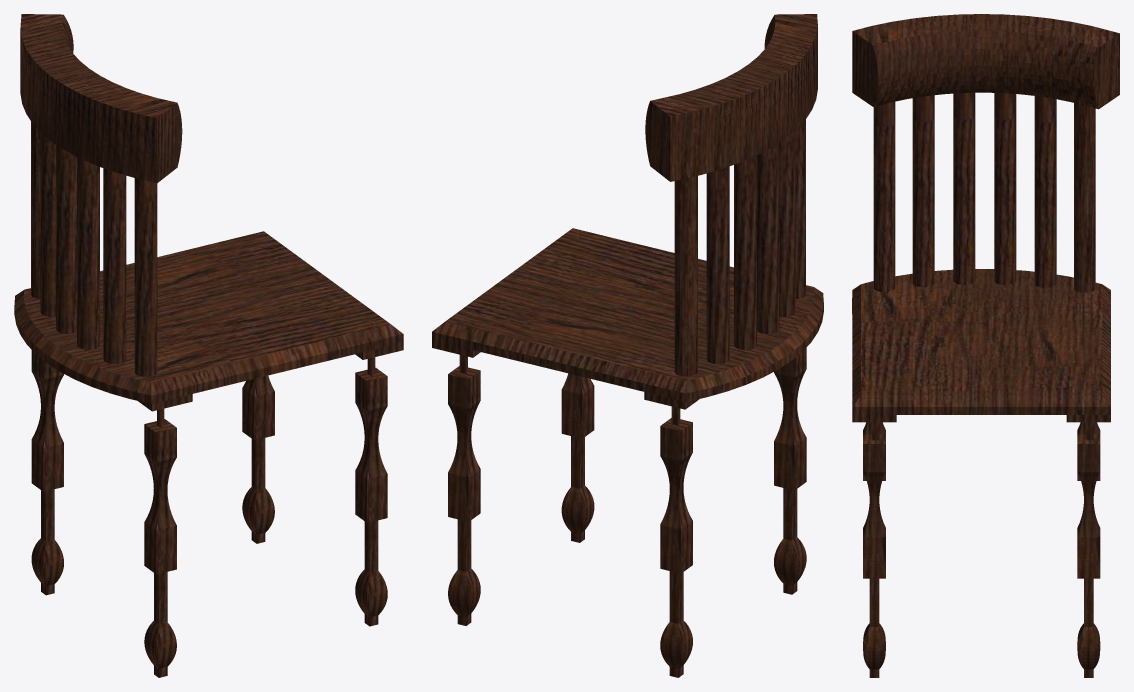
3 renders of one model, left to right at view 1: azimuth 30°, elevation 25°; view 2: azimuth 150°, elevation 25°; view 3: azimuth 270°, elevation 25°, orthographic. The views are drawn at different scales.
Visible parts, largest first — view 1: mesh1.001_mesh1-geometry, mesh15_mesh15-geometry, mesh5.001_mesh5-geometry, mesh5.004_mesh5-geometry, mesh5.003_mesh5-geometry, mesh14_mesh14-geometry, mesh13_mesh13-geometry, mesh12_mesh12-geometry, mesh5.002_mesh5-geometry, mesh11_mesh11-geometry, mesh10_mesh10-geometry; view 2: mesh1.001_mesh1-geometry, mesh15_mesh15-geometry, mesh5.003_mesh5-geometry, mesh5.002_mesh5-geometry, mesh5.004_mesh5-geometry, mesh10_mesh10-geometry, mesh11_mesh11-geometry, mesh12_mesh12-geometry, mesh5.001_mesh5-geometry, mesh13_mesh13-geometry, mesh14_mesh14-geometry; view 3: mesh1.001_mesh1-geometry, mesh15_mesh15-geometry, mesh5.002_mesh5-geometry, mesh5.001_mesh5-geometry, mesh12_mesh12-geometry, mesh11_mesh11-geometry, mesh13_mesh13-geometry, mesh10_mesh10-geometry, mesh14_mesh14-geometry.
Boxes of the visible parts, bbox=[...] form: mesh1.001_mesh1-geometry: bbox=[14, 121, 403, 403]; mesh15_mesh15-geometry: bbox=[20, 14, 182, 183]; mesh5.001_mesh5-geometry: bbox=[355, 342, 403, 626]; mesh5.004_mesh5-geometry: bbox=[138, 394, 192, 677]; mesh5.003_mesh5-geometry: bbox=[31, 350, 63, 595]; mesh14_mesh14-geometry: bbox=[134, 178, 157, 376]; mesh13_mesh13-geometry: bbox=[103, 168, 126, 364]; mesh12_mesh12-geometry: bbox=[77, 157, 99, 349]; mesh5.002_mesh5-geometry: bbox=[242, 375, 274, 543]; mesh11_mesh11-geometry: bbox=[56, 145, 76, 333]; mesh10_mesh10-geometry: bbox=[40, 132, 55, 316]; mesh1.001_mesh1-geometry: bbox=[432, 176, 823, 401]; mesh15_mesh15-geometry: bbox=[645, 14, 817, 181]; mesh5.003_mesh5-geometry: bbox=[644, 392, 699, 677]; mesh5.002_mesh5-geometry: bbox=[432, 340, 480, 625]; mesh5.004_mesh5-geometry: bbox=[774, 348, 806, 594]; mesh10_mesh10-geometry: bbox=[706, 166, 729, 363]; mesh11_mesh11-geometry: bbox=[734, 155, 756, 349]; mesh12_mesh12-geometry: bbox=[757, 143, 779, 333]; mesh5.001_mesh5-geometry: bbox=[561, 373, 594, 542]; mesh13_mesh13-geometry: bbox=[779, 130, 795, 316]; mesh14_mesh14-geometry: bbox=[795, 119, 805, 299]; mesh1.001_mesh1-geometry: bbox=[852, 103, 1110, 414]; mesh15_mesh15-geometry: bbox=[852, 14, 1119, 109]; mesh5.002_mesh5-geometry: bbox=[1066, 415, 1110, 677]; mesh5.001_mesh5-geometry: bbox=[852, 415, 896, 677]; mesh12_mesh12-geometry: bbox=[953, 92, 975, 284]; mesh11_mesh11-geometry: bbox=[994, 93, 1016, 285]; mesh13_mesh13-geometry: bbox=[912, 95, 934, 287]; mesh10_mesh10-geometry: bbox=[1034, 96, 1056, 287]; mesh14_mesh14-geometry: bbox=[873, 101, 895, 291].
Size of the model in its own units: 0.4361 by 0.8209 by 0.3686.
